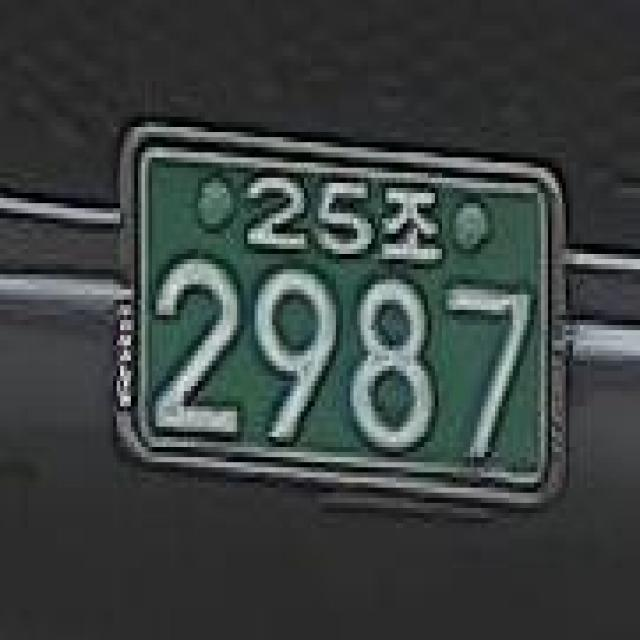illegal_plate: (108, 114, 580, 510)
